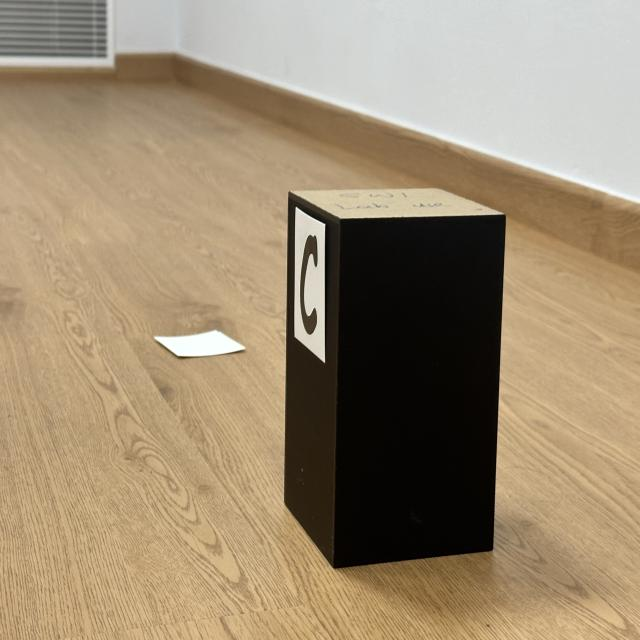C: (300, 235, 318, 335)
